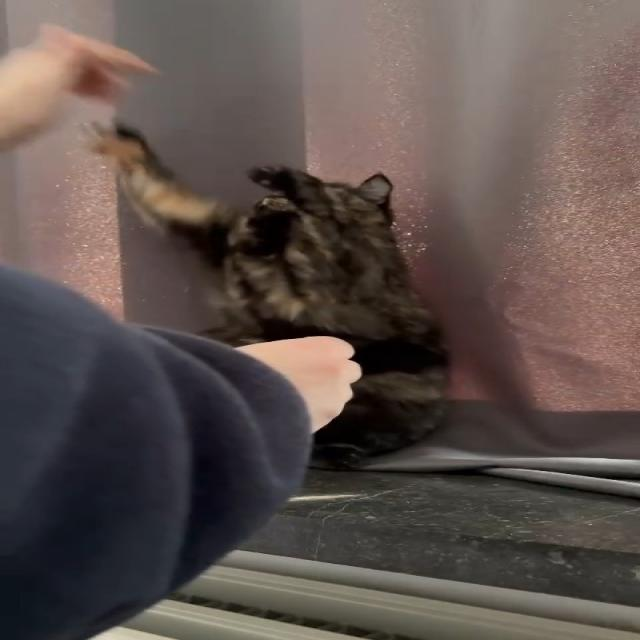authorized: (79, 120, 452, 470)
